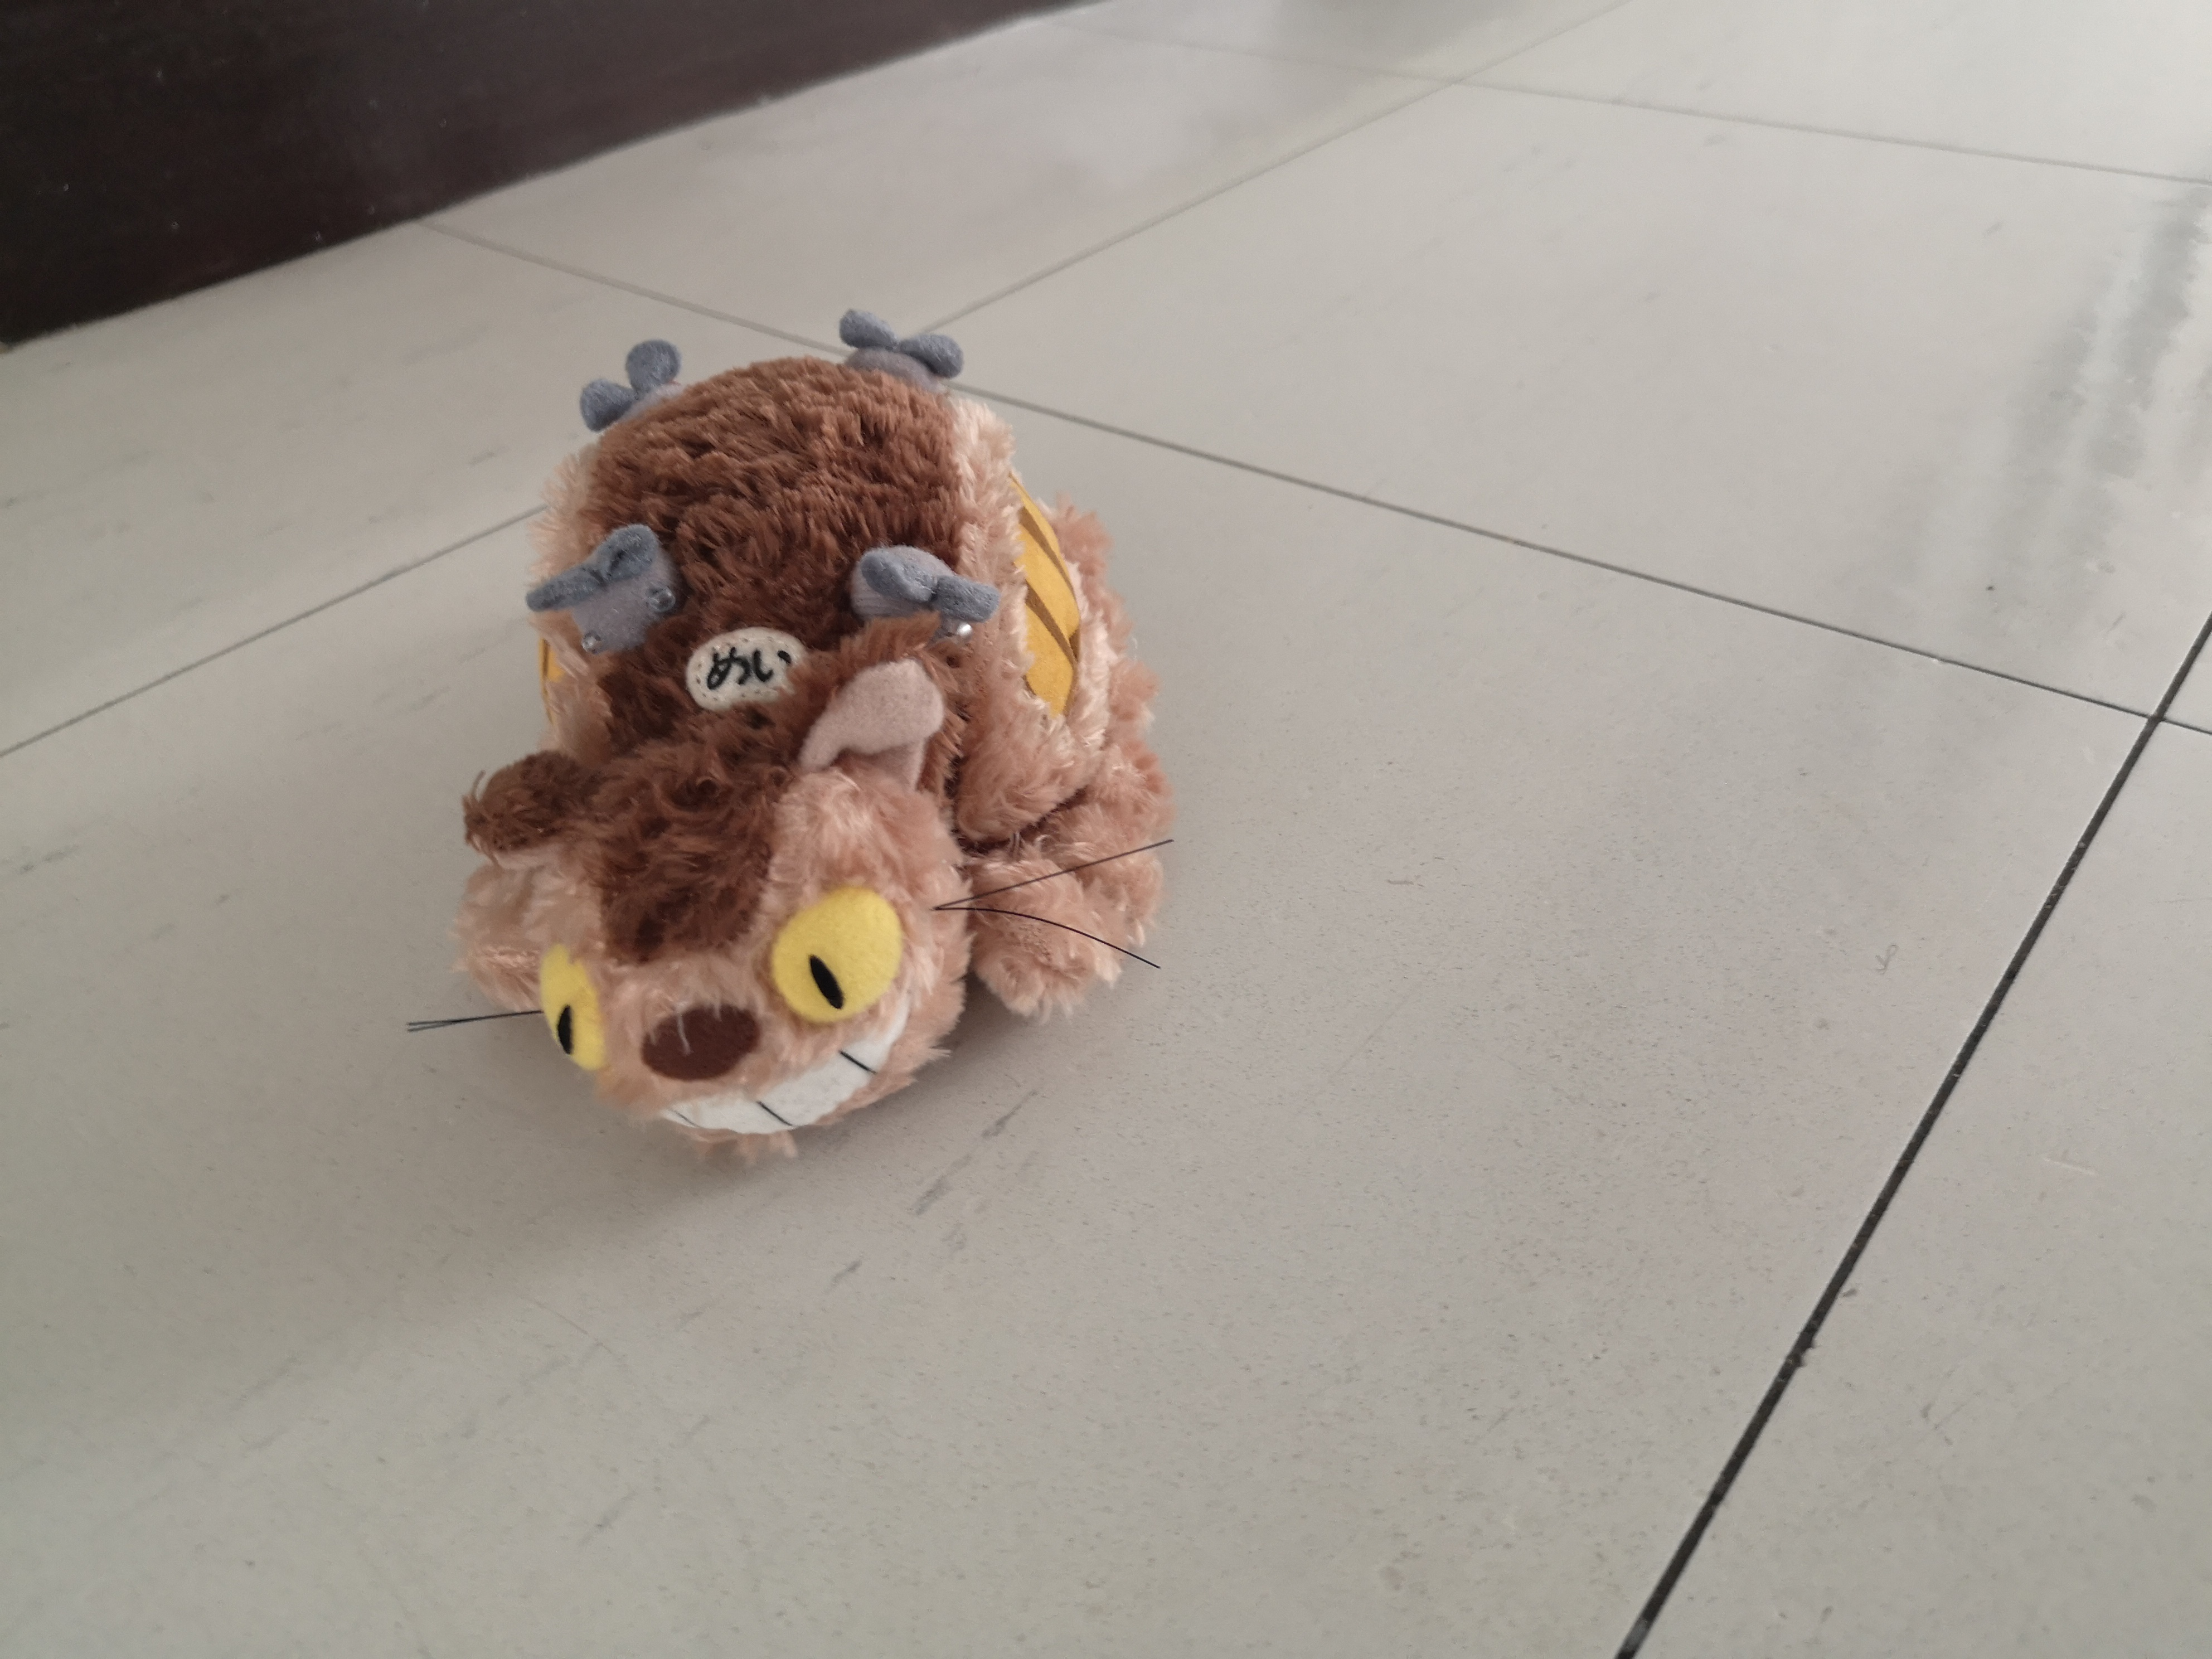nekobus: (402, 305, 1184, 1187)
